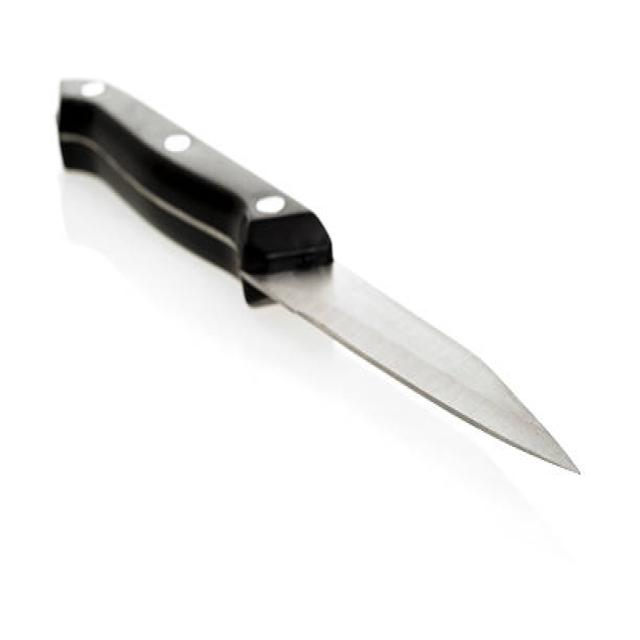knife: (53, 67, 584, 480)
